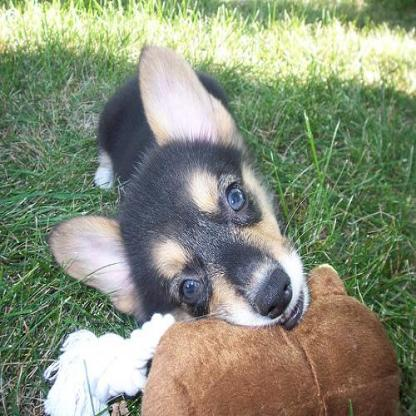Pembroke: (48, 41, 306, 325)
